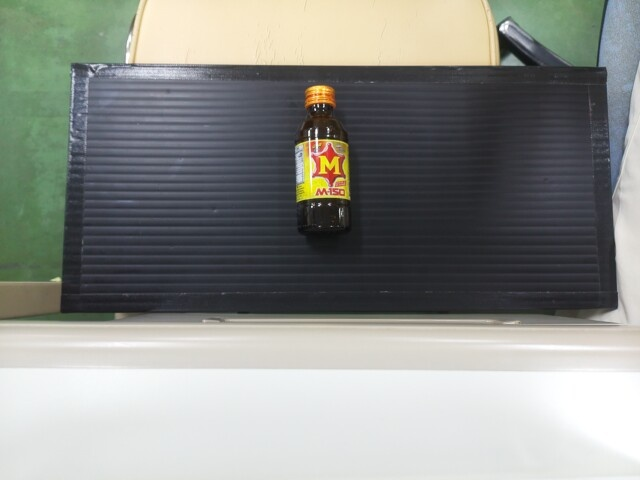glass_bottle: (290, 85, 351, 235)
